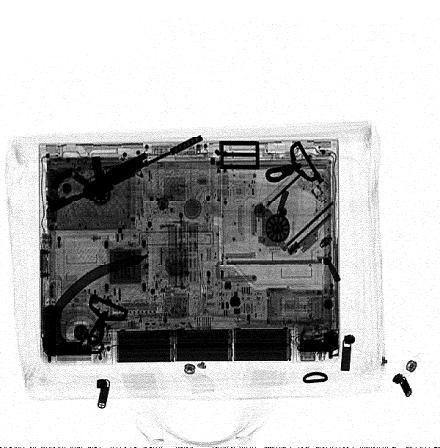Gun: (47, 132, 204, 214)
